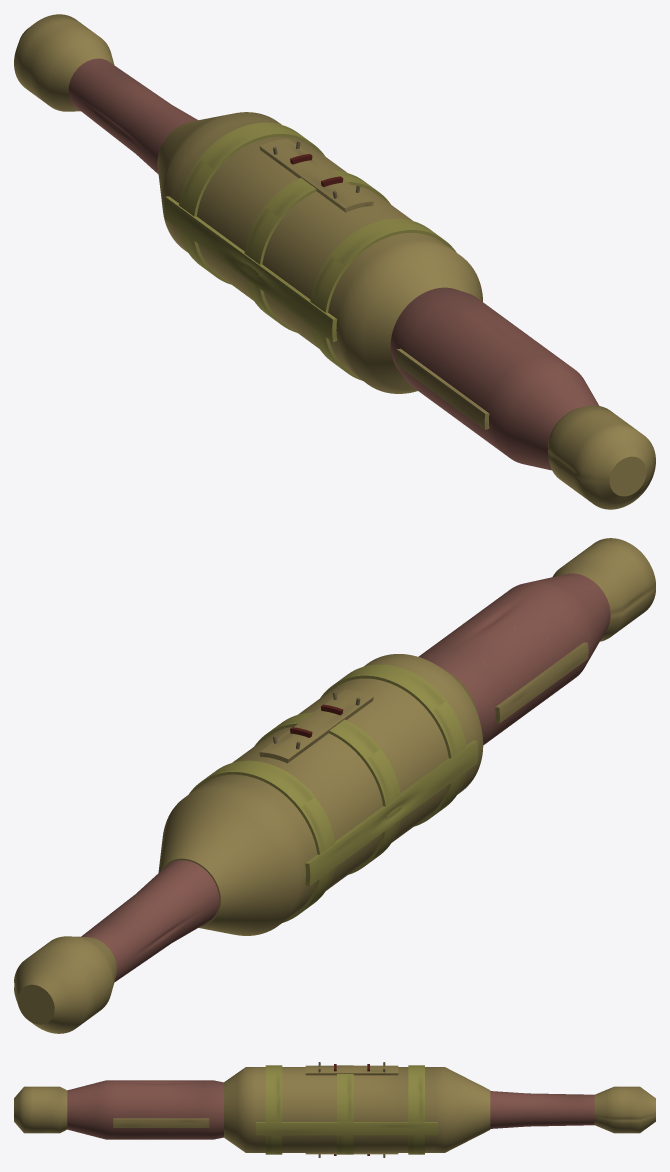
The picture shows the model from 3 angles, top to bottom: view 1: azimuth 30°, elevation 25°; view 2: azimuth 150°, elevation 25°; view 3: azimuth 270°, elevation 25°; orthographic projection. The views are drawn at different scales.
Visible parts, largest first — view 1: Braccatian Midwinter gold main body, Braccatian Midwinter copper forward canister, Braccatian Midwinter gold forward terminal, Braccatian Midwinter copper rear connector, Braccatian Midwinter gold rear terminal, Braccatian Midwinter longitudinal casting 0 1, Braccatian Midwinter body band 2, Braccatian Midwinter body band 0, Braccatian Midwinter body band 1, Braccatian Midwinter service cover 1, Braccatian Midwinter longitudinal casting 1 1; view 2: Braccatian Midwinter gold main body, Braccatian Midwinter copper forward canister, Braccatian Midwinter copper rear connector, Braccatian Midwinter gold rear terminal, Braccatian Midwinter gold forward terminal, Braccatian Midwinter longitudinal casting 0 1, Braccatian Midwinter body band 0, Braccatian Midwinter body band 2, Braccatian Midwinter body band 1, Braccatian Midwinter service cover 1, Braccatian Midwinter longitudinal casting 1 1; view 3: Braccatian Midwinter gold main body, Braccatian Midwinter copper forward canister, Braccatian Midwinter copper rear connector, Braccatian Midwinter gold rear terminal, Braccatian Midwinter longitudinal casting 0 0, Braccatian Midwinter gold forward terminal, Braccatian Midwinter body band 0, Braccatian Midwinter body band 2, Braccatian Midwinter body band 1, Braccatian Midwinter longitudinal casting 1 0, Braccatian Midwinter service cover 1.
Part boxes in pixels (x1,y1,x2,y2): Braccatian Midwinter gold main body: (157, 112, 482, 393); Braccatian Midwinter copper forward canister: (390, 287, 599, 470); Braccatian Midwinter gold forward terminal: (548, 405, 655, 509); Braccatian Midwinter copper rear connector: (68, 58, 197, 174); Braccatian Midwinter gold rear terminal: (14, 14, 114, 111); Braccatian Midwinter longitudinal casting 0 1: (164, 196, 337, 342); Braccatian Midwinter body band 2: (179, 122, 324, 284); Braccatian Midwinter body band 0: (310, 218, 456, 380); Braccatian Midwinter body band 1: (243, 170, 390, 332); Braccatian Midwinter service cover 1: (259, 139, 373, 212); Braccatian Midwinter longitudinal casting 1 1: (396, 348, 489, 429); Braccatian Midwinter gold main body: (158, 654, 483, 935); Braccatian Midwinter copper forward canister: (418, 573, 610, 745); Braccatian Midwinter copper rear connector: (81, 860, 219, 982); Braccatian Midwinter gold rear terminal: (14, 936, 116, 1033); Braccatian Midwinter gold forward terminal: (552, 538, 655, 641); Braccatian Midwinter longitudinal casting 0 1: (305, 740, 478, 886); Braccatian Midwinter body band 0: (320, 664, 466, 826); Braccatian Midwinter body band 2: (189, 760, 335, 922); Braccatian Midwinter body band 1: (254, 712, 401, 874); Braccatian Midwinter service cover 1: (259, 689, 373, 763); Braccatian Midwinter longitudinal casting 1 1: (495, 642, 588, 723); Braccatian Midwinter gold main body: (224, 1067, 490, 1152); Braccatian Midwinter copper forward canister: (67, 1080, 223, 1139); Braccatian Midwinter copper rear connector: (490, 1091, 594, 1128); Braccatian Midwinter gold rear terminal: (594, 1086, 655, 1133); Braccatian Midwinter longitudinal casting 0 0: (256, 1122, 437, 1135); Braccatian Midwinter gold forward terminal: (14, 1086, 67, 1133); Braccatian Midwinter body band 0: (265, 1065, 282, 1154); Braccatian Midwinter body band 2: (408, 1065, 424, 1154); Braccatian Midwinter body band 1: (337, 1065, 353, 1154); Braccatian Midwinter longitudinal casting 1 0: (113, 1118, 209, 1127); Braccatian Midwinter service cover 1: (305, 1065, 398, 1075).
Size of the model in its own units: 0.276 by 0.2973 by 1.94.
Materials: 5 (3 with a texture image).
